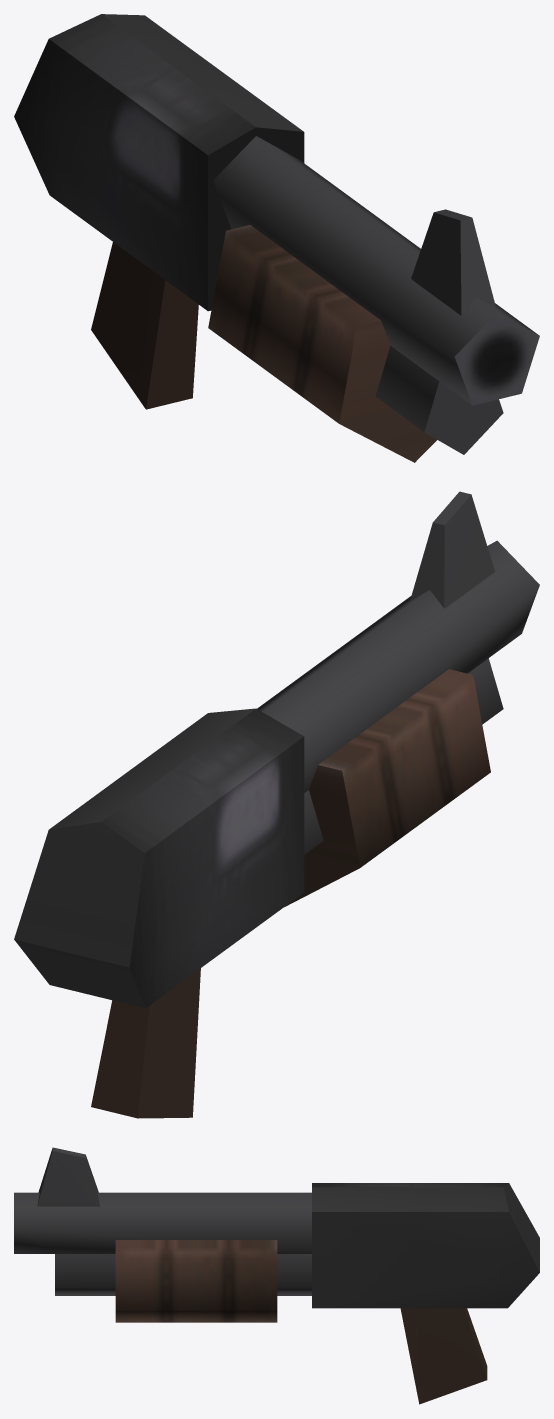
File: w_shotgun.FBX
3 renders of one model, top to bottom at view 1: azimuth 30°, elevation 25°; view 2: azimuth 150°, elevation 25°; view 3: azimuth 270°, elevation 25°, orthographic. The views are drawn at different scales.
Visible parts, largest first — view 1: w_shotgun; view 2: w_shotgun; view 3: w_shotgun.
Part boxes in pixels (<box>): w_shotgun: <box>14,14,539,462</box>; w_shotgun: <box>14,491,539,1118</box>; w_shotgun: <box>14,1147,539,1404</box>.
Bounding box in the file's own units: 6.4 × 16.26 × 31.21.
1 material, 1 textured.
